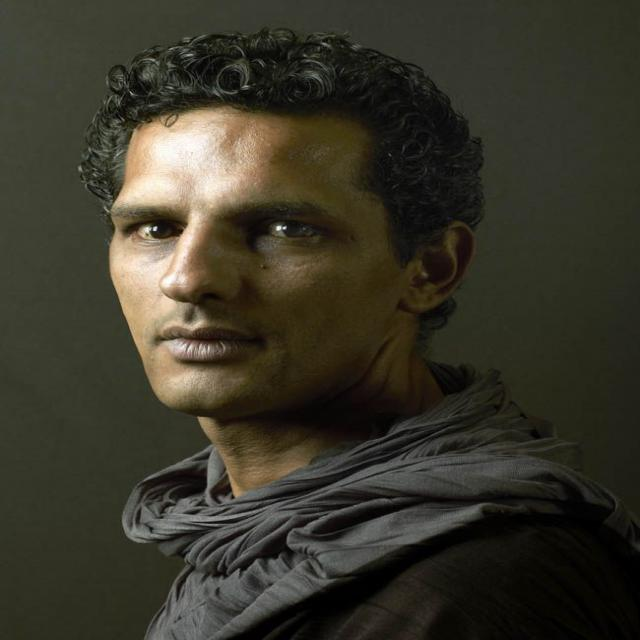earlobe: (404, 220, 478, 314)
